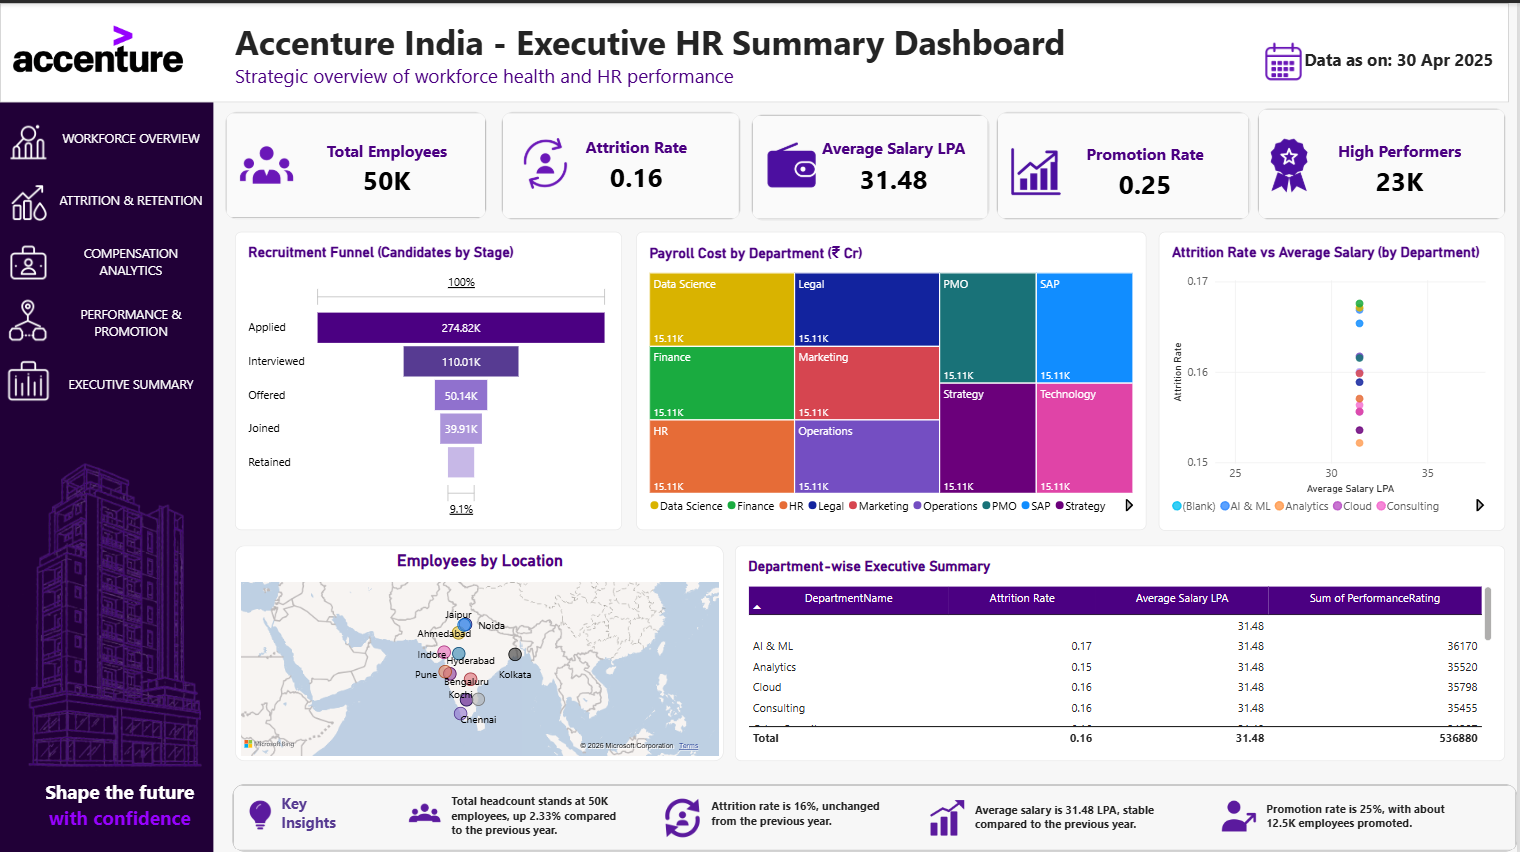

This screenshot's page, from the dashboard's own definition file:
{"tool":"powerbi","page":{"name":"EXECUTIVE SUMMARY","canvas":[1920,1080],"ordinal":4},"visuals":[{"type":"shape","box":[0,26,270,1054],"z":0},{"type":"group","id":"g1","title":"Group 3","box":[0,498,290,568.7],"z":1000},{"type":"group","id":"g2","title":"Group 1","box":[0,126.7,270,395.3],"z":2000},{"type":"image","box":[0,498,290,540],"z":2000,"group":"g1"},{"type":"shape","box":[0,0,1909.3,125.9],"z":3000},{"type":"image","box":[11.4,10,225.7,104.3],"z":3000,"group":"g3"},{"type":"group","id":"g3","title":"Group 2","box":[11.4,10,1899.3,116.7],"z":4000},{"type":"textbox","box":[297.4,20,1613.3,106.7],"z":4000,"group":"g3"},{"type":"shape","box":[284.7,137.3,331.4,135.7],"z":5000},{"type":"textbox","box":[1631.6,56.7,278.3,38.3],"z":6000,"group":"g3"},{"type":"shape","box":[634.6,138.3,302.9,137.1],"z":6000},{"type":"shape","box":[950.3,141.1,301.4,134.3],"z":7000},{"type":"textbox","box":[33.3,981.7,236.7,85],"z":7000,"group":"g1"},{"type":"image","box":[0,126.7,71.7,100],"z":8000,"group":"g2"},{"type":"shape","box":[1260.3,136.9,321.4,137.1],"z":8000},{"type":"shape","box":[1591.7,132.6,314.3,141.4],"z":9000},{"type":"image","box":[1.7,213.4,71.7,76.7],"z":9000,"group":"g2"},{"type":"image","box":[297.1,160,80,93.3],"z":10000},{"type":"image","box":[0,290,71.7,75],"z":10000,"group":"g2"},{"type":"image","box":[1591.4,158.6,80,93.3],"z":11000},{"type":"image","box":[0,365,70,73.3],"z":11000,"group":"g2"},{"type":"image","box":[650,157.1,80,93.3],"z":12000},{"type":"image","box":[0,435,71.7,85],"z":12000,"group":"g2"},{"type":"image","box":[961.4,158.6,80,93.3],"z":13000},{"type":"pageNavigator","box":[62,136,208,386],"z":14000,"group":"g2"},{"type":"image","box":[1270,167.1,80,93.3],"z":14000},{"type":"shape","box":[294,988,1625.4,86.4],"z":15000},{"type":"image","box":[1581.2,42.5,85,63.8],"z":16000},{"type":"funnel","title":"Recruitment Funnel (Candidates by Stage)","fields":{"Category":["FactRecruitment.Stage"],"Y":["Count(FactRecruitment.CandidateID)"]},"box":[296.6,289.8,489.8,378],"z":17000},{"type":"treemap","title":"Payroll Cost by Department (₹ Cr)","fields":{"Group":["DimDepartment.DepartmentName"],"Values":["DimDate.Total Payroll Cr"]},"box":[805.1,289.8,645.8,378],"z":18000},{"type":"scatterChart","title":"Attrition Rate vs Average Salary (by Department)","fields":{"Category":["DimDepartment.DepartmentName"],"Series":["DimDepartment.DepartmentName"],"X":["DimDate.Average Salary LPA"],"Y":["DimDate.Attrition Rate"]},"box":[1466,290,438,378],"z":19000},{"type":"map","title":"Employees by Location","fields":{"Category":["DimLocation.City"],"Size":["DimDate.Total Employees"]},"box":[296.6,686.4,618.6,272.9],"z":20000},{"type":"tableEx","title":"Department-wise Executive Summary","fields":{"Values":["DimDepartment.DepartmentName","DimDate.Attrition Rate","DimDate.Average Salary LPA","Sum(FactPerformance.PerformanceRating)"]},"box":[930.5,686.4,974.6,272.9],"z":21000},{"type":"cardVisual","fields":{"Data":["DimDate.Total Employees"]},"box":[394.9,176.3,188.1,69.5],"z":22000},{"type":"cardVisual","fields":{"Data":["DimDate.Attrition Rate"]},"box":[679.7,164.4,250.8,83.1],"z":23000},{"type":"cardVisual","fields":{"Data":["DimDate.Average Salary LPA"]},"box":[974.6,169.5,313.6,76.3],"z":24000},{"type":"cardVisual","fields":{"Data":["DimDate.Promotion Rate"]},"box":[1335.6,161,228.8,106.8],"z":25000},{"type":"cardVisual","fields":{"Data":["DimDate.High Performers"]},"box":[1654.2,169.5,233.9,83.1],"z":26000},{"type":"textbox","box":[1602,1010,252,52],"z":27000,"group":"g5"},{"type":"textbox","box":[1234,1010,268,54],"z":28000,"group":"g7"},{"type":"textbox","box":[900,1006,234,42],"z":29000,"group":"g6"},{"type":"textbox","box":[572,1000,224,62],"z":30000,"group":"g4"},{"type":"textbox","box":[356,1000,78,64],"z":31000},{"type":"image","box":[302,1006,54,42],"z":32000},{"type":"image","box":[502,1008,72,42],"z":32001,"group":"g4"},{"type":"image","box":[830,998,66,66],"z":32002,"group":"g6"},{"type":"image","box":[1168,1004,66,56],"z":32003,"group":"g7"},{"type":"image","box":[1536,1002,66,56],"z":32004,"group":"g5"},{"type":"group","id":"g4","title":"Group 4","box":[502,1000,294,62],"z":32005},{"type":"group","id":"g5","title":"Group 7","box":[1536,1002,318,60],"z":32008},{"type":"group","id":"g6","title":"Group 5","box":[830,998,304,66],"z":32009},{"type":"group","id":"g7","title":"Group 6","box":[1168,1004,334,60],"z":32010}]}

Visuals, with their boxes on the page's 1920x1080 design canvas (x1, y1, x2, y2). These are canvas units, not pixel positions in the 1520x852 screenshot, which may show the page scaled, cropped or inside an application window:
shape: (0,26,270,1080)
"Group 3" group: (0,498,290,1067)
"Group 1" group: (0,127,270,522)
image: (0,498,290,1038)
shape: (0,0,1909,126)
image: (11,10,237,114)
"Group 2" group: (11,10,1911,127)
textbox: (297,20,1911,127)
shape: (285,137,616,273)
textbox: (1632,57,1910,95)
shape: (635,138,938,275)
shape: (950,141,1252,275)
textbox: (33,982,270,1067)
image: (0,127,72,227)
shape: (1260,137,1582,274)
shape: (1592,133,1906,274)
image: (2,213,73,290)
image: (297,160,377,253)
image: (0,290,72,365)
image: (1591,159,1671,252)
image: (0,365,70,438)
image: (650,157,730,250)
image: (0,435,72,520)
image: (961,159,1041,252)
pageNavigator: (62,136,270,522)
image: (1270,167,1350,260)
shape: (294,988,1919,1074)
image: (1581,42,1666,106)
"Recruitment Funnel (Candidates by Stage)" funnel: (297,290,786,668)
"Payroll Cost by Department (₹ Cr)" treemap: (805,290,1451,668)
"Attrition Rate vs Average Salary (by Department)" scatterChart: (1466,290,1904,668)
"Employees by Location" map: (297,686,915,959)
"Department-wise Executive Summary" tableEx: (930,686,1905,959)
cardVisual - DimDate.Total Employees: (395,176,583,246)
cardVisual - DimDate.Attrition Rate: (680,164,930,248)
cardVisual - DimDate.Average Salary LPA: (975,170,1288,246)
cardVisual - DimDate.Promotion Rate: (1336,161,1564,268)
cardVisual - DimDate.High Performers: (1654,170,1888,253)
textbox: (1602,1010,1854,1062)
textbox: (1234,1010,1502,1064)
textbox: (900,1006,1134,1048)
textbox: (572,1000,796,1062)
textbox: (356,1000,434,1064)
image: (302,1006,356,1048)
image: (502,1008,574,1050)
image: (830,998,896,1064)
image: (1168,1004,1234,1060)
image: (1536,1002,1602,1058)
"Group 4" group: (502,1000,796,1062)
"Group 7" group: (1536,1002,1854,1062)
"Group 5" group: (830,998,1134,1064)
"Group 6" group: (1168,1004,1502,1064)
